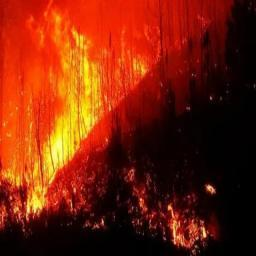Large fire: (0, 0, 223, 255)
